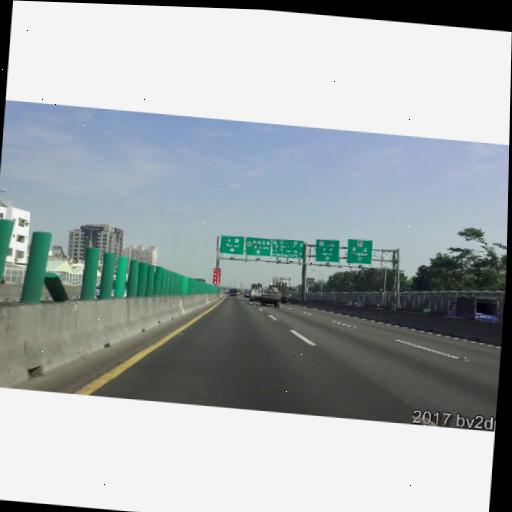Car: (446, 292, 500, 321), (260, 286, 282, 307), (249, 288, 263, 302), (346, 299, 364, 307), (230, 288, 236, 296), (244, 292, 251, 297)
